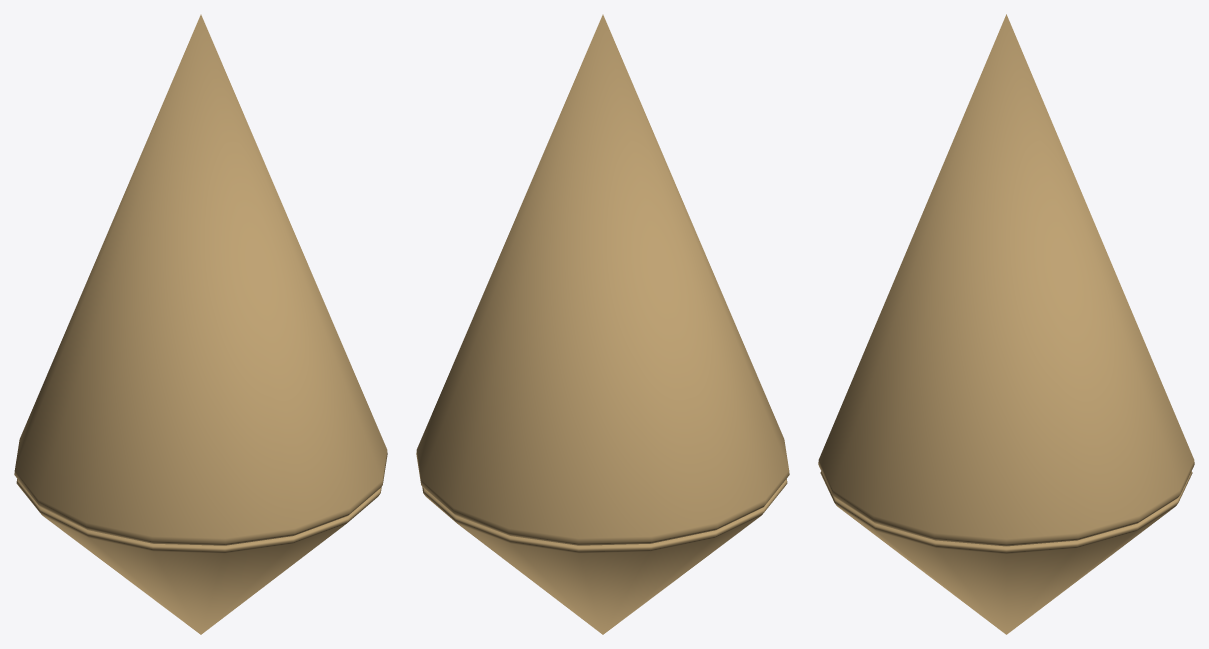
The model's file is SM_HC2_BeatShard_008.fbx.
3 views of the same model, side by side, from view 1: azimuth 30°, elevation 25°; view 2: azimuth 150°, elevation 25°; view 3: azimuth 270°, elevation 25° (orthographic).
Visible parts, largest first — view 1: SM_HC2_BeatShard_008; view 2: SM_HC2_BeatShard_008; view 3: SM_HC2_BeatShard_008.
Boxes of the visible parts, x1=… form: SM_HC2_BeatShard_008: x1=14, y1=14, x2=387, y2=634; SM_HC2_BeatShard_008: x1=416, y1=14, x2=789, y2=634; SM_HC2_BeatShard_008: x1=818, y1=14, x2=1194, y2=634.
Size of the model in its own units: 82.42 by 82.42 by 150.
